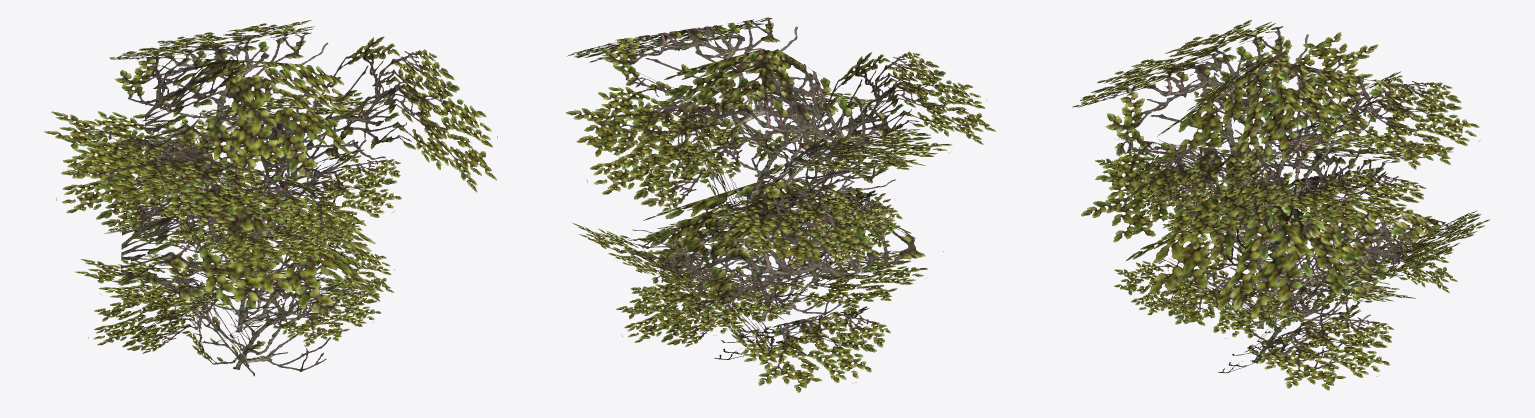
Rendered from flora-bushes-medit-scrub-01.glb.
3 views of the same model, side by side, from view 1: azimuth 30°, elevation 25°; view 2: azimuth 150°, elevation 25°; view 3: azimuth 270°, elevation 25° (orthographic).
Parts seen in each view (by area): view 1: Plane; view 2: Plane; view 3: Plane.
Boxes of the visible parts, <box> form: Plane: <box>44,20,497,376</box>; Plane: <box>566,17,996,392</box>; Plane: <box>1072,20,1490,390</box>.
Size of the model in its own units: 1.83 by 1.16 by 1.66.
Materials: 1 (1 with a texture image).
